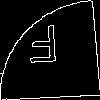F: (25, 24, 61, 71)
